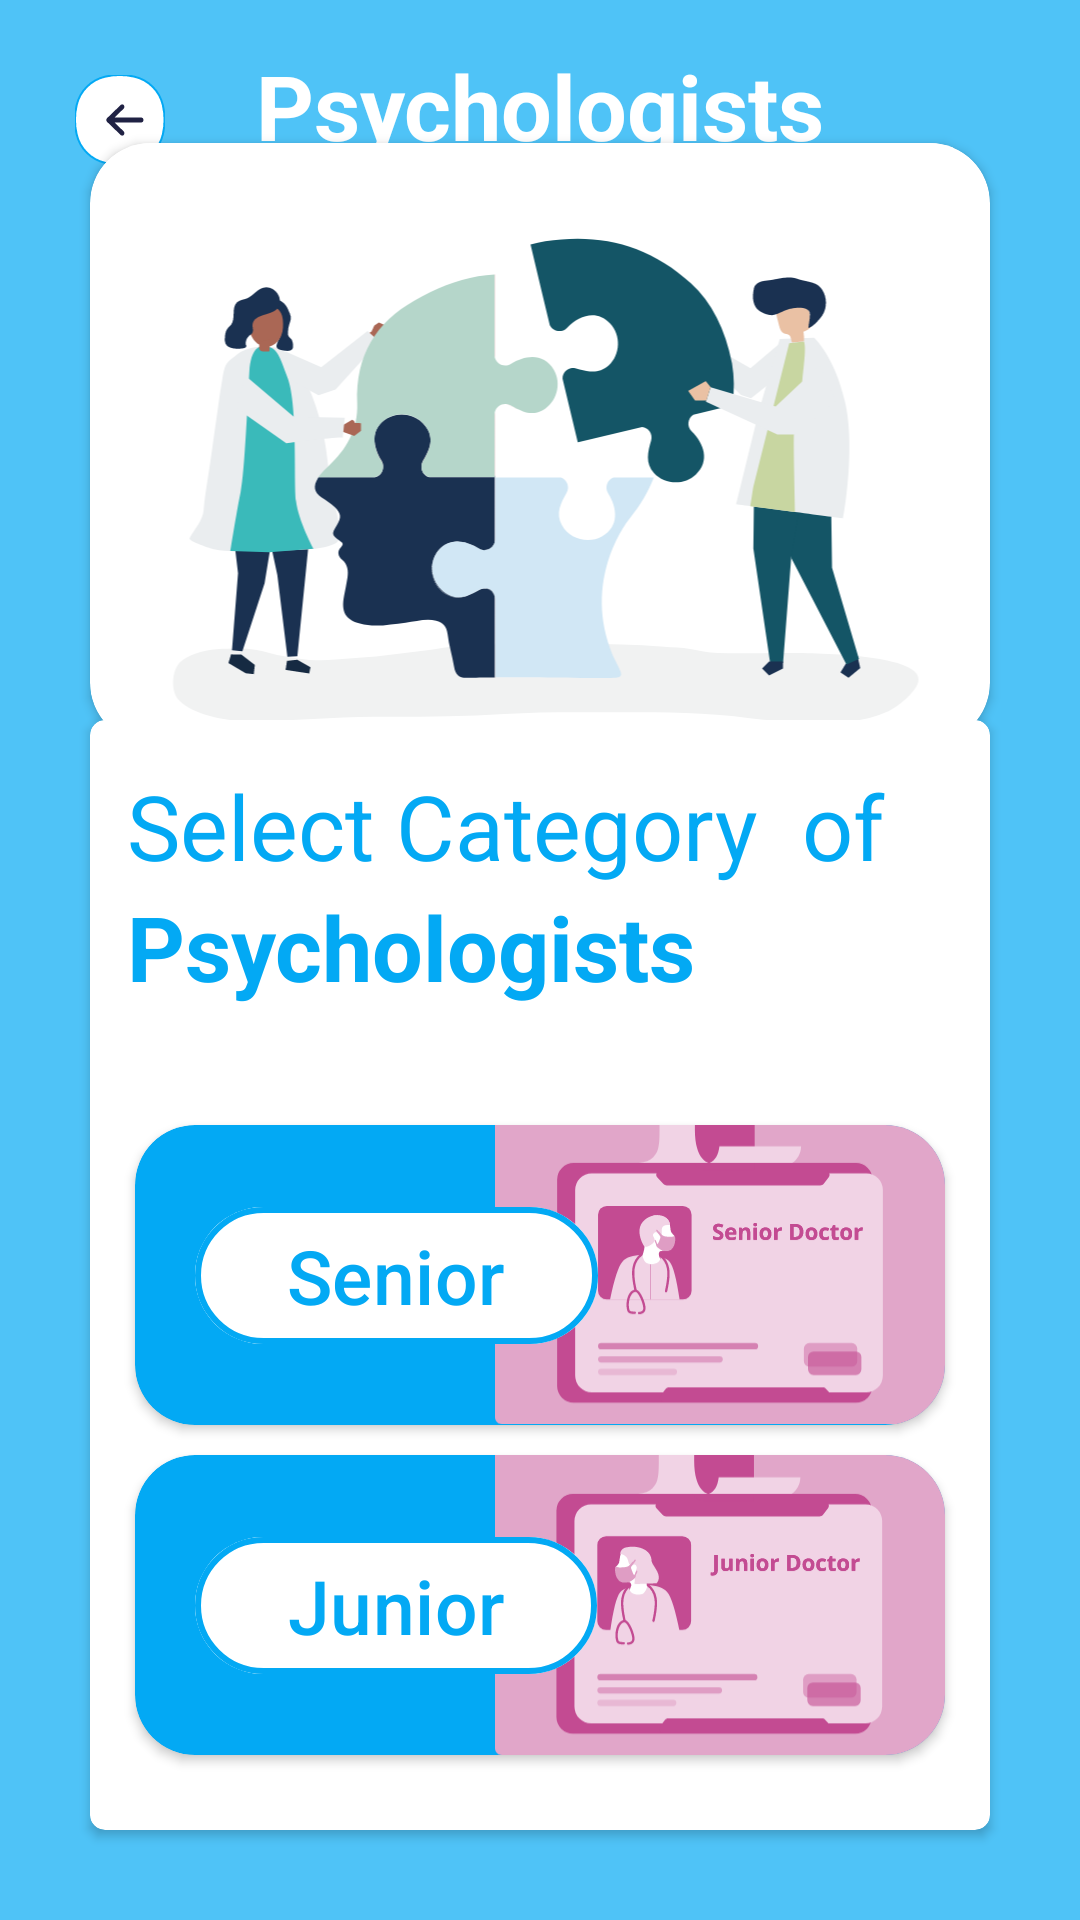

Icon bounding boxes for this 1080×1920 phone screenshot, format (x1, y1, x2, y2):
back: (75, 75, 180, 180)
